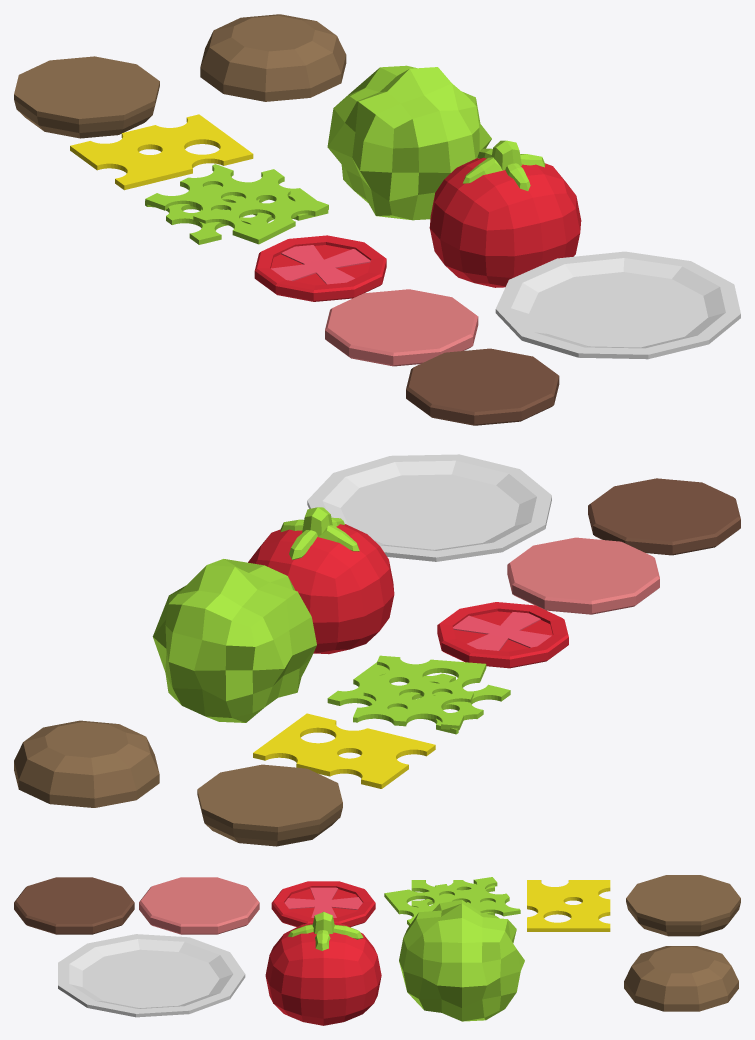
File: Food.fbx
The picture shows the model from 3 angles, top to bottom: view 1: azimuth 30°, elevation 25°; view 2: azimuth 150°, elevation 25°; view 3: azimuth 270°, elevation 25°; orthographic projection. The views are drawn at different scales.
Visible parts, largest first — view 1: Cylinder.005, Cube.004, Cube.003, Cylinder.002, Cylinder.001, Cylinder.003, Cylinder, Cube.002, Cube.001, Cylinder.004, Cube, Cube.005; view 2: Cube.004, Cylinder.005, Cube.003, Cylinder.002, Cylinder.001, Cylinder, Cylinder.003, Cube.002, Cube.001, Cylinder.004, Cube, Cube.005; view 3: Cylinder.005, Cube.004, Cube.003, Cylinder.002, Cylinder.001, Cylinder, Cylinder.003, Cube.001, Cube.002, Cylinder.004, Cube, Cube.005.
Part boxes in pixels (x1,y1,x2,y2): Cylinder.005: (495, 251, 740, 359); Cube.004: (327, 65, 491, 220); Cube.003: (429, 157, 581, 287); Cylinder.002: (200, 14, 346, 101); Cylinder.001: (14, 56, 159, 138); Cylinder.003: (406, 348, 559, 425); Cylinder: (325, 289, 478, 366); Cube.002: (145, 164, 328, 244); Cube.001: (70, 114, 253, 190); Cylinder.004: (254, 235, 386, 301); Cube: (271, 245, 370, 284); Cube.005: (463, 140, 545, 190); Cube.004: (152, 559, 316, 722); Cylinder.005: (307, 454, 551, 561); Cube.003: (248, 524, 394, 654); Cylinder.002: (14, 720, 159, 807); Cylinder.001: (197, 764, 342, 846); Cylinder: (507, 537, 659, 614); Cylinder.003: (588, 478, 740, 555); Cube.002: (327, 655, 510, 734); Cube.001: (253, 713, 435, 788); Cylinder.004: (437, 602, 568, 668); Cube: (453, 612, 551, 650); Cube.005: (280, 507, 359, 559); Cylinder.005: (58, 934, 245, 1017); Cube.004: (399, 900, 524, 1021); Cube.003: (265, 923, 381, 1025); Cylinder.002: (624, 946, 738, 1011); Cylinder.001: (626, 875, 740, 936); Cylinder: (139, 877, 259, 934); Cylinder.003: (14, 877, 134, 934); Cube.001: (527, 880, 610, 931); Cube.002: (384, 877, 520, 925); Cylinder.004: (271, 881, 375, 926); Cube: (284, 887, 362, 917); Cube.005: (287, 911, 363, 950).
Bounding box in the file's own units: 554 × 220 × 1266.
